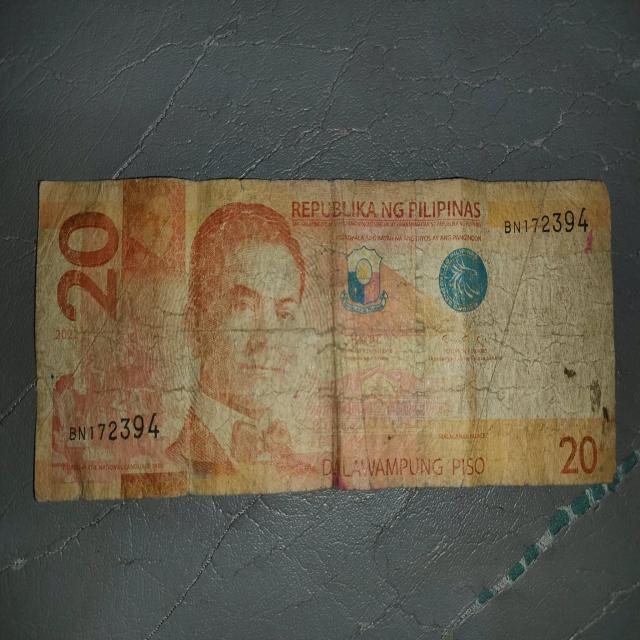notbroken: (33, 178, 617, 500)
